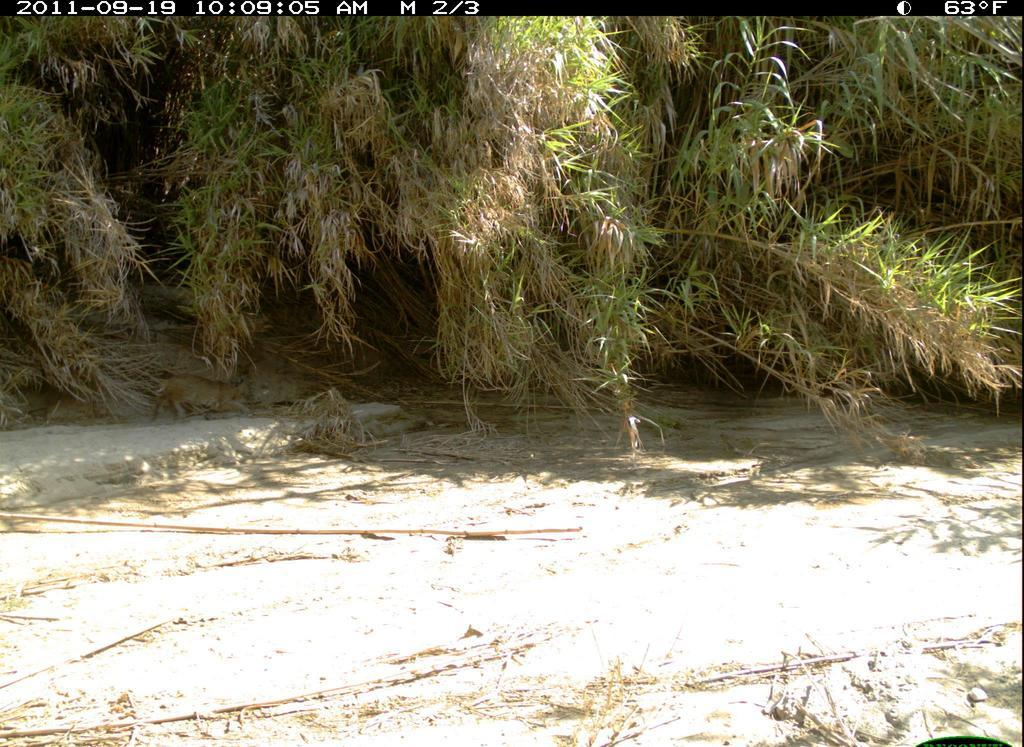bobcat: (144, 367, 259, 427)
